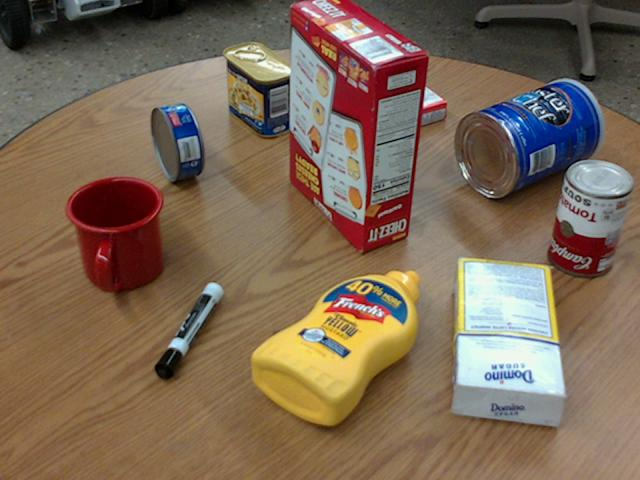cracker_box: (287, 0, 427, 250)
gelatin_box: (363, 74, 446, 131)
large_marker: (154, 282, 222, 378)
master_chef_can: (454, 78, 602, 196)
mug: (66, 177, 164, 292)
mustard_bottle: (250, 269, 419, 426)
potted_meat_can: (222, 43, 295, 136)
sugar_box: (452, 257, 567, 424)
tomato_soup_can: (547, 157, 631, 274)
tuna_fish_can: (152, 104, 203, 181)
